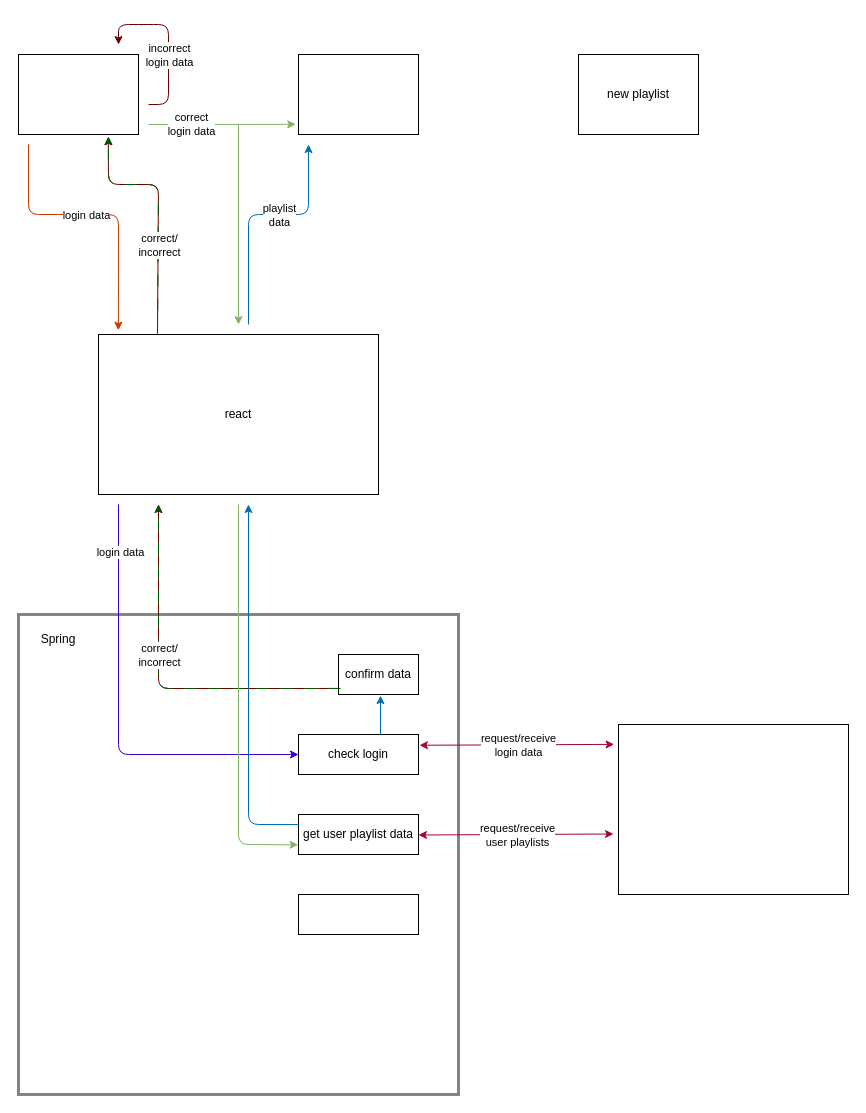
The diagram is 866 pixels wide and 1113 high, and some of its shapes have lost their labels. Each missing label, with the box of its shape:
login: (18, 54, 138, 134)
MySQL: (618, 724, 848, 894)
User Page: (298, 54, 418, 134)
